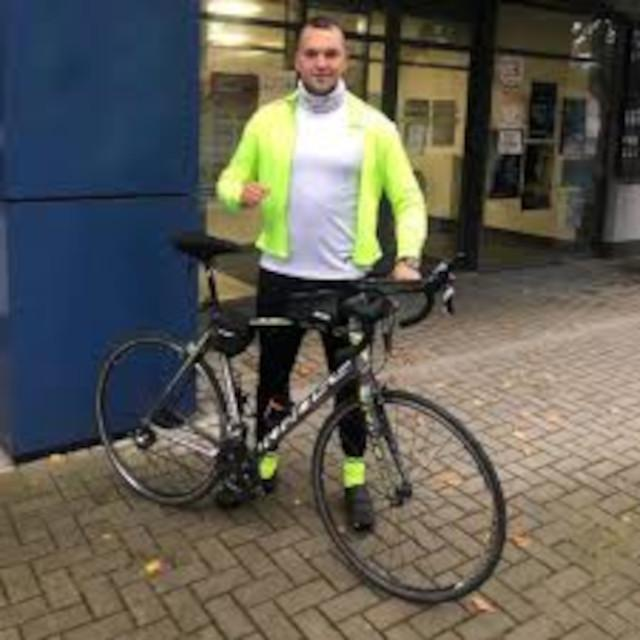mezczyzna: (228, 15, 432, 454)
